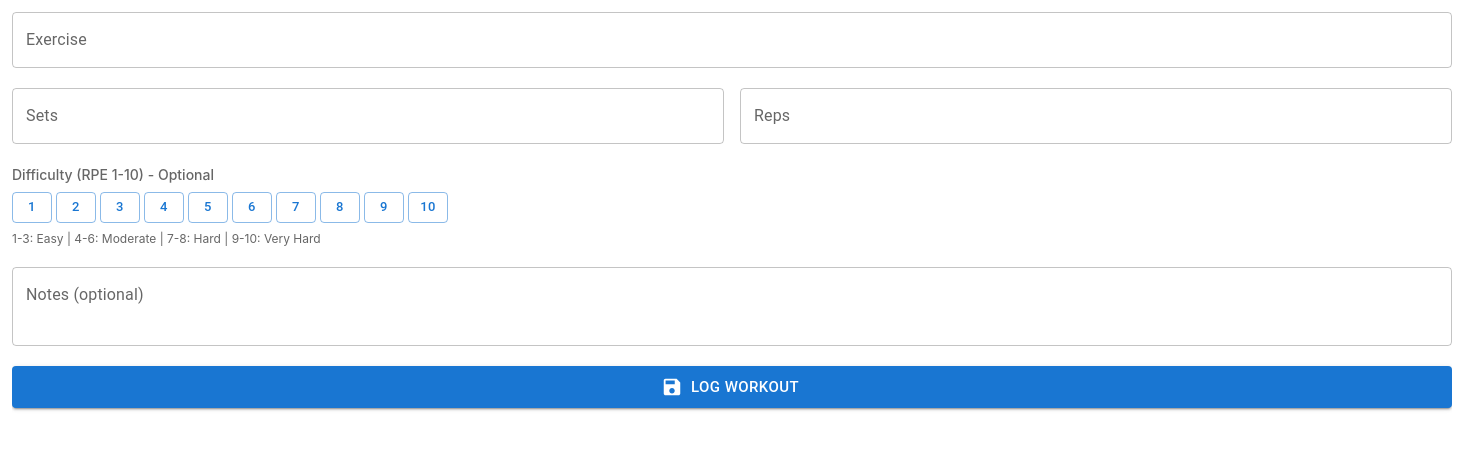
Scenario: WorkoutForm › Validation › displays error when sets is empty
Type "Bench Press" into the dropdown labelled "Exercise" at point(717, 40), box x1=21 y1=21 x2=1413 y2=59
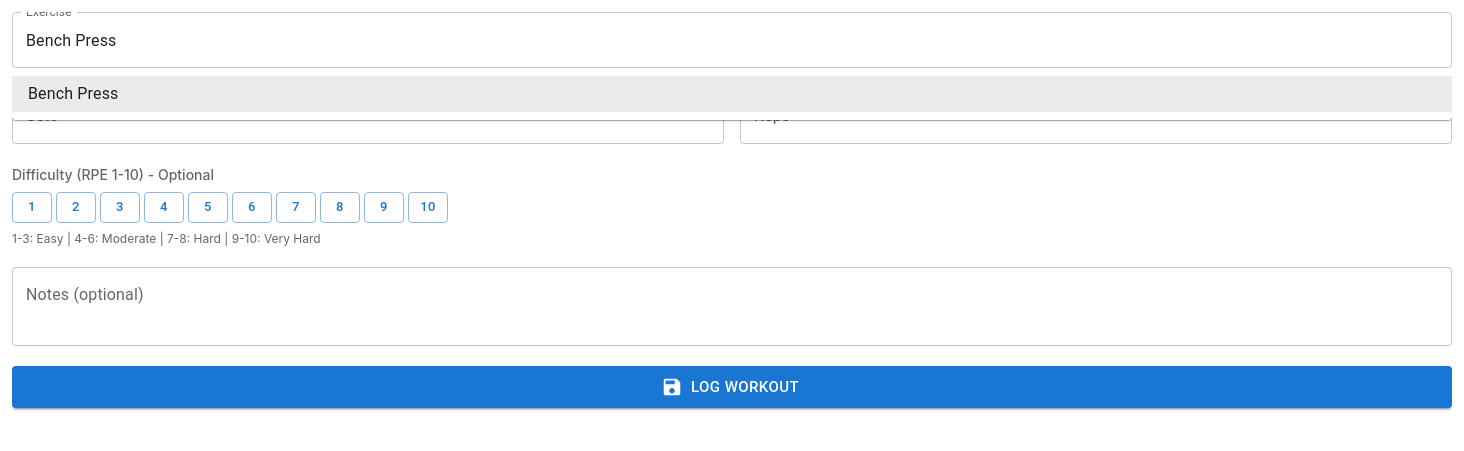
Click the button "Log Workout" at point(732, 387), box x1=12 y1=366 x2=1452 y2=408
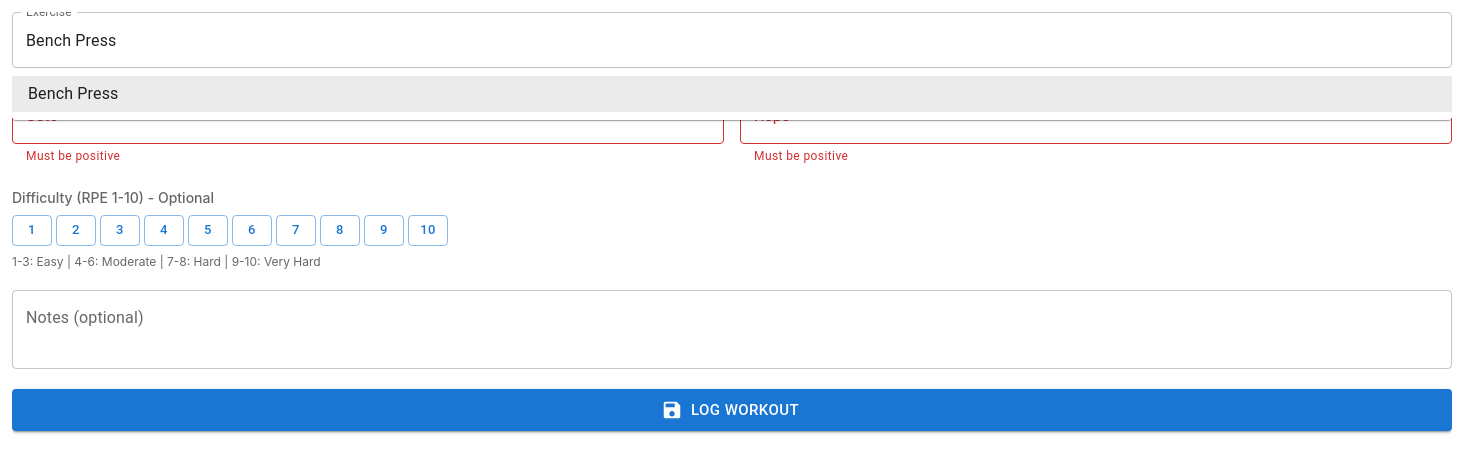
expect the text "Must be positive" below "Sets" is shown: met, box x1=26 y1=149 x2=120 y2=163
